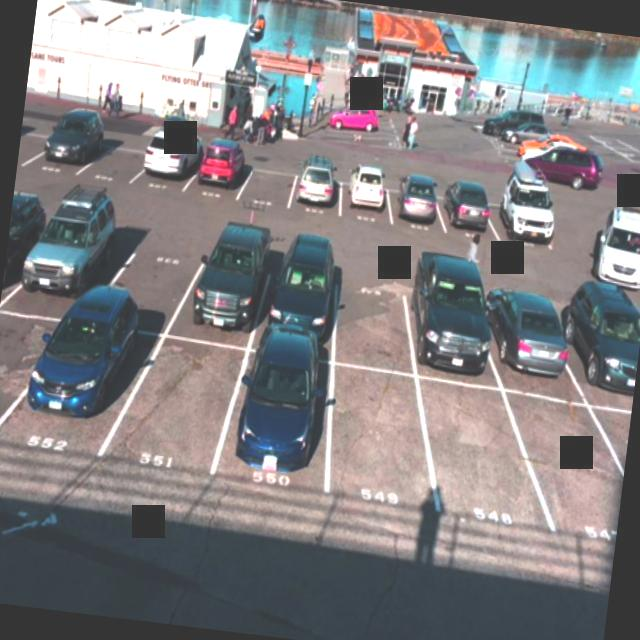car: (220, 334, 348, 486), (30, 291, 138, 456), (19, 186, 130, 308), (244, 235, 354, 350), (392, 270, 504, 381), (476, 287, 585, 394), (186, 218, 280, 336), (560, 290, 640, 406), (480, 180, 560, 262), (0, 189, 50, 318), (36, 104, 109, 178), (431, 172, 498, 248), (136, 134, 205, 202), (379, 164, 442, 238), (187, 131, 249, 205), (282, 154, 347, 219), (330, 158, 388, 228)
free: (401, 368, 544, 536), (498, 382, 633, 548), (314, 358, 438, 514), (128, 330, 246, 477), (97, 213, 217, 327), (314, 258, 434, 369), (0, 285, 56, 443), (230, 146, 298, 214), (82, 127, 149, 192), (16, 103, 58, 178)
